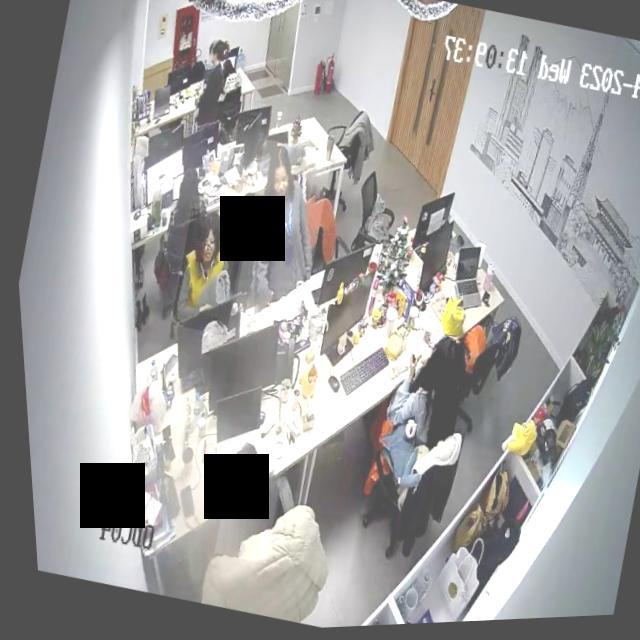person: (219, 139, 339, 330), (367, 328, 471, 466), (159, 208, 249, 339), (200, 436, 286, 567), (186, 37, 234, 132), (160, 165, 213, 243), (212, 57, 247, 107)
